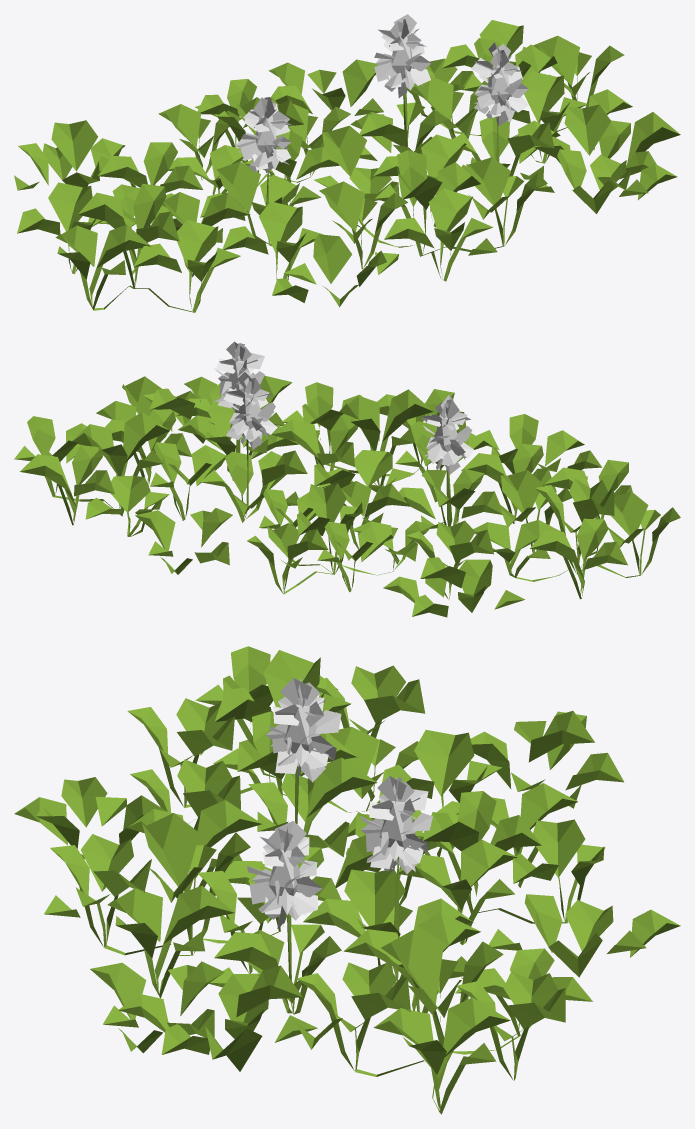
The model's file is SM_Water_Hyacinth_Group_B.fbx.
The picture shows the model from 3 angles, top to bottom: view 1: azimuth 30°, elevation 25°; view 2: azimuth 150°, elevation 25°; view 3: azimuth 270°, elevation 25°; orthographic projection. The views are drawn at different scales.
Visible parts, largest first — view 1: water-hyacinth-group-b; view 2: water-hyacinth-group-b; view 3: water-hyacinth-group-b.
Part boxes in pixels (left/top/right/bottom): water-hyacinth-group-b: left=14, top=14, right=680, bottom=312; water-hyacinth-group-b: left=14, top=341, right=680, bottom=617; water-hyacinth-group-b: left=14, top=646, right=680, bottom=1114.
Bounding box in the file's own units: 2.32 × 0.6035 × 1.63.
